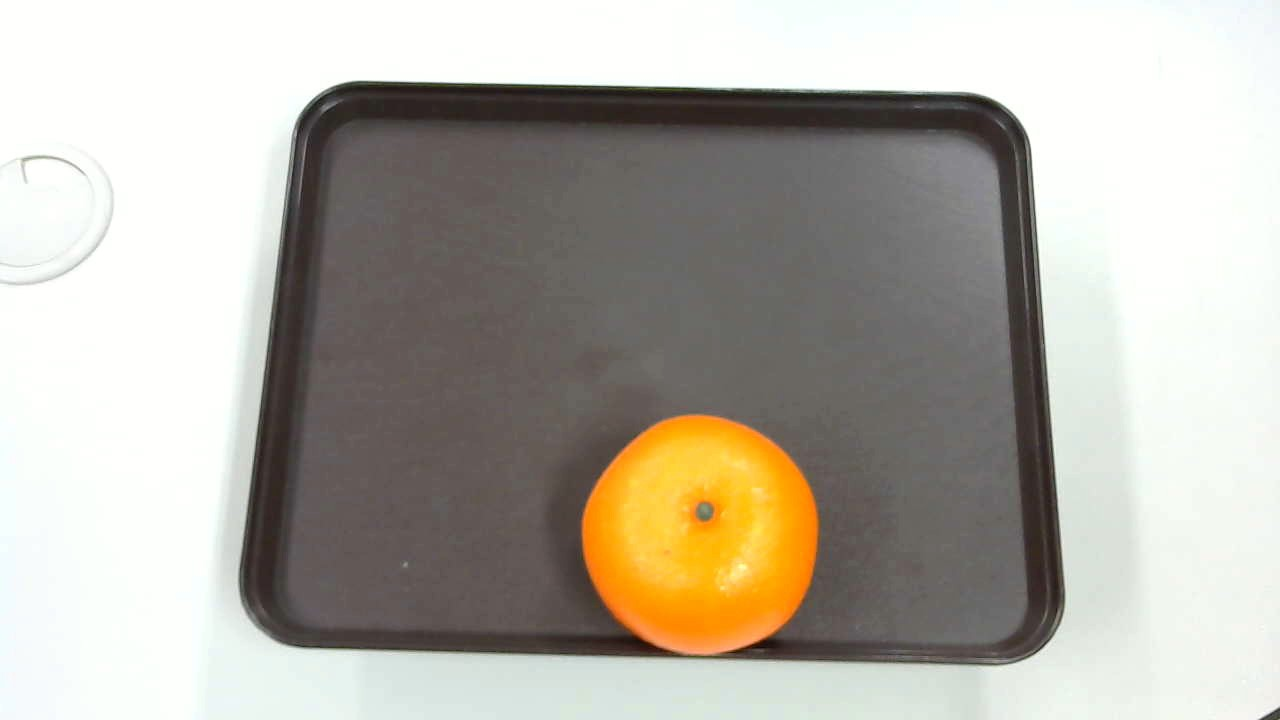orange: (569, 408, 832, 664)
